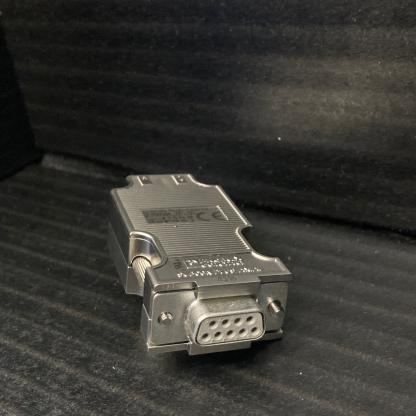SP0000010: (67, 131, 311, 394)
